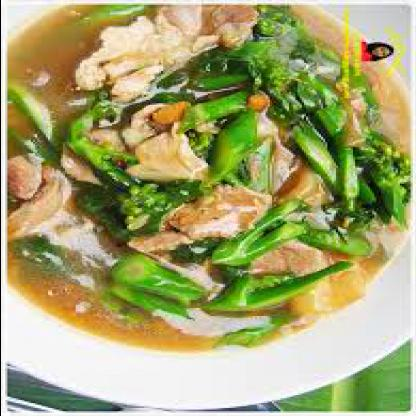Laadna: (4, 0, 412, 365)
